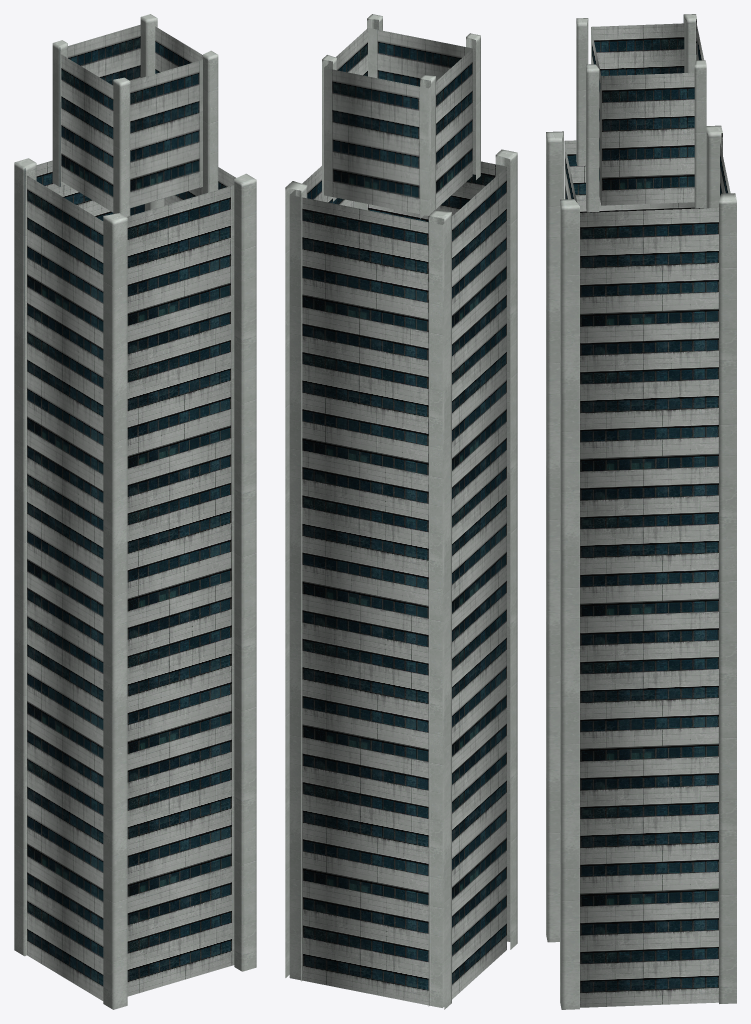
The model's file is 00_03_outside_building_a.dae.
The picture shows the model from 3 angles, left to right: view 1: azimuth 30°, elevation 25°; view 2: azimuth 150°, elevation 25°; view 3: azimuth 270°, elevation 25°; orthographic projection.
Visible parts, largest first — view 1: buildingA-Pivot; view 2: buildingA-Pivot; view 3: buildingA-Pivot.
Part boxes in pixels (x1,y1,x2,y2): buildingA-Pivot: [14, 14, 256, 1009]; buildingA-Pivot: [285, 14, 517, 1009]; buildingA-Pivot: [546, 14, 736, 1009].
Size of the model in its own units: 43.39 by 230 by 42.92.
